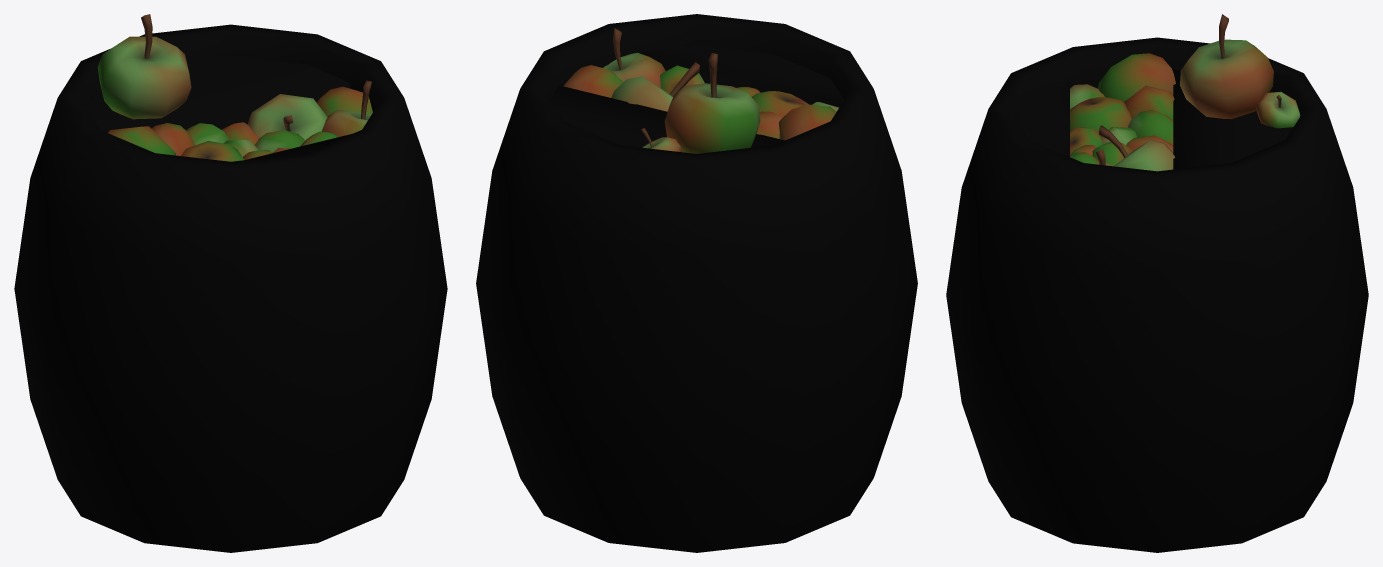
Rendered from barrel_apple.fbx.
3 renders of one model, left to right at view 1: azimuth 30°, elevation 25°; view 2: azimuth 150°, elevation 25°; view 3: azimuth 270°, elevation 25°, orthographic. The views are drawn at different scales.
Parts seen in each view (by area): view 1: barrel_apple_baked; view 2: barrel_apple_baked; view 3: barrel_apple_baked.
Boxes of the visible parts, x1,y1,x2,y2 form: barrel_apple_baked: (14, 14, 447, 552); barrel_apple_baked: (476, 14, 917, 552); barrel_apple_baked: (946, 14, 1368, 552).
Size of the model in its own units: 1.24 by 1.43 by 1.24.
